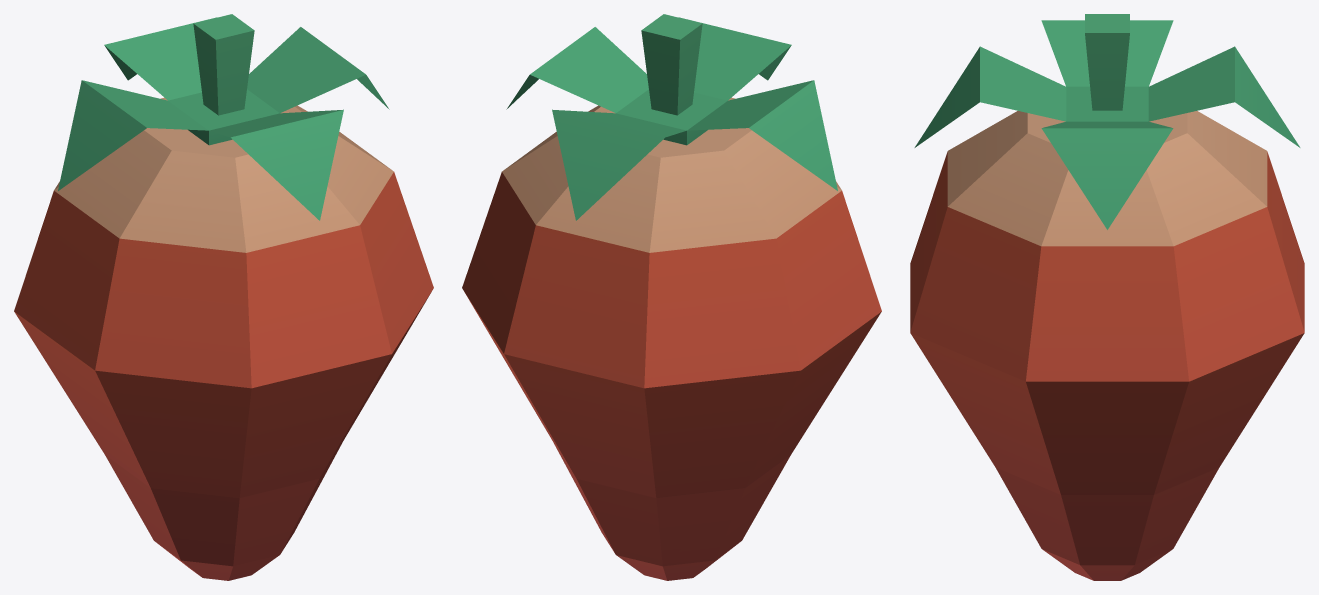
File: strawberry.glb
3 renders of one model, left to right at view 1: azimuth 30°, elevation 25°; view 2: azimuth 150°, elevation 25°; view 3: azimuth 270°, elevation 25°, orthographic.
Parts seen in each view (by area): view 1: geometry_0; view 2: geometry_0; view 3: geometry_0.
Part boxes in pixels (<box>): geometry_0: <box>14,14,433,580</box>; geometry_0: <box>462,14,881,580</box>; geometry_0: <box>910,14,1304,580</box>.
Bounding box in the file's own units: 0.5458 × 0.83 × 0.5458.
